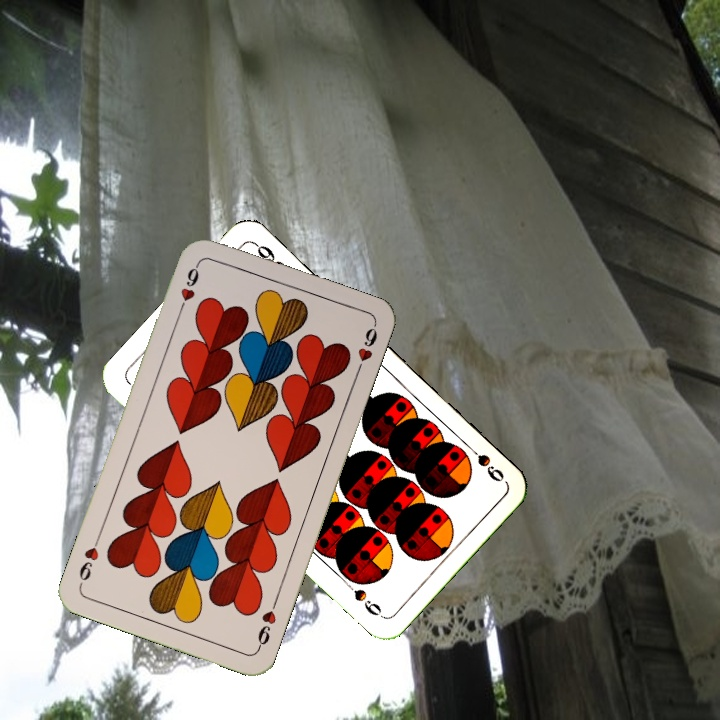H9: (174, 259, 203, 316), (253, 595, 281, 652)
S9: (460, 438, 507, 485)
